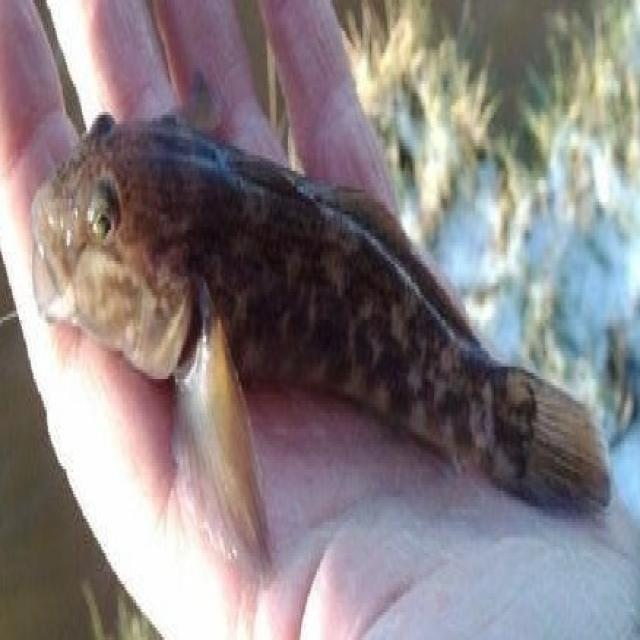Goby: (25, 59, 624, 571)
